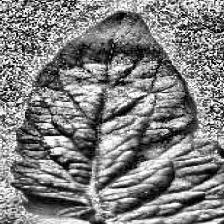spider mites: (12, 10, 224, 224)
